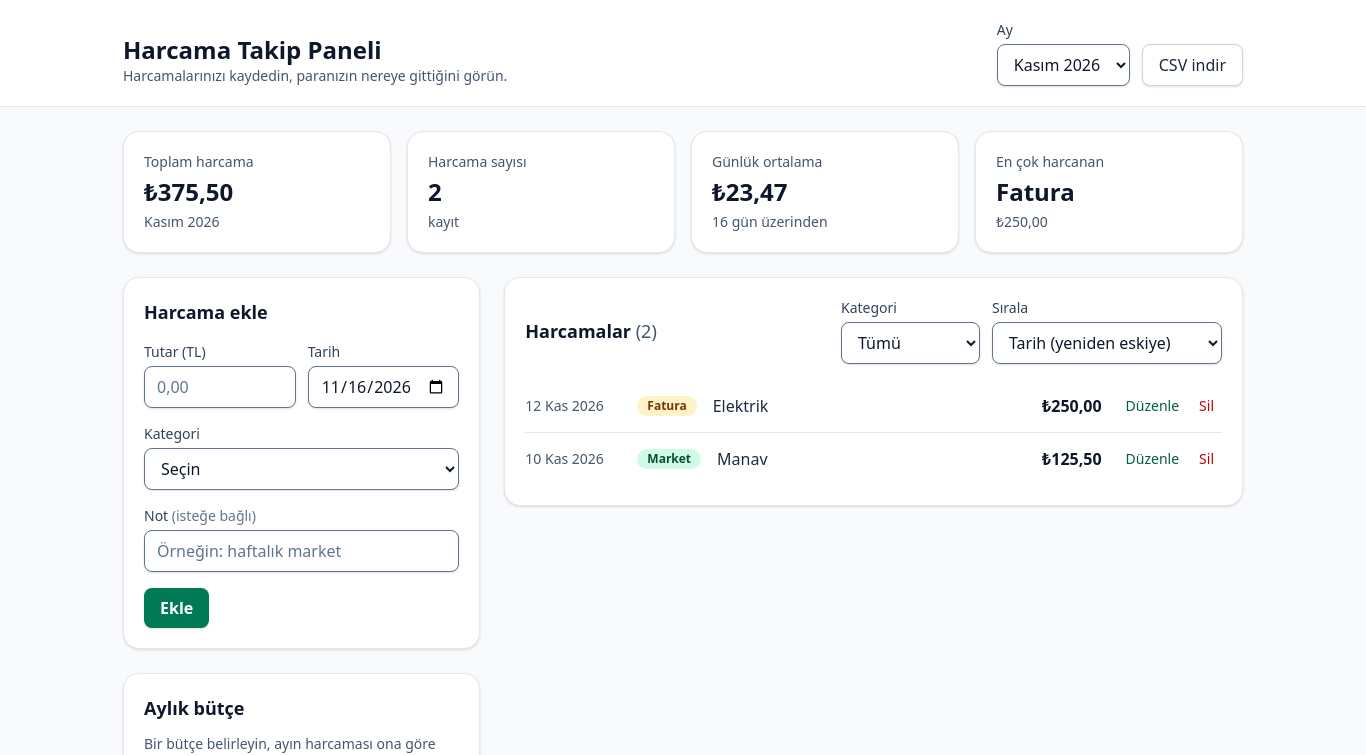
Scenario: the expense form › fills in the other expense when editing moves from one to another
Click the button named "Market harcaması: düzenle" at (1152, 459), box [1118,445,1187,473]
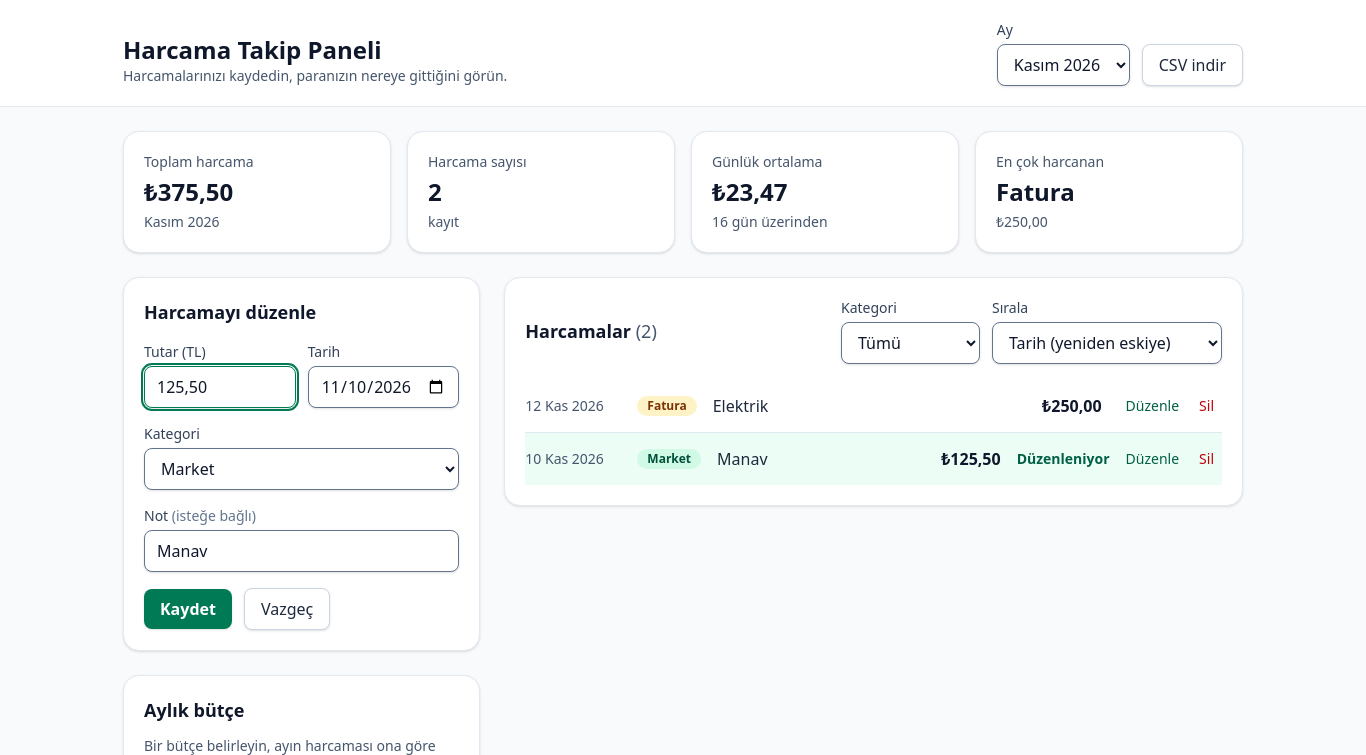
Now the field labelled "Tutar (TL)" holds "125,50", box [144,366,296,408]
Click the button "Düzenle" in the row of "12 Kas 2026" at (1152, 406), box [1118,392,1187,420]
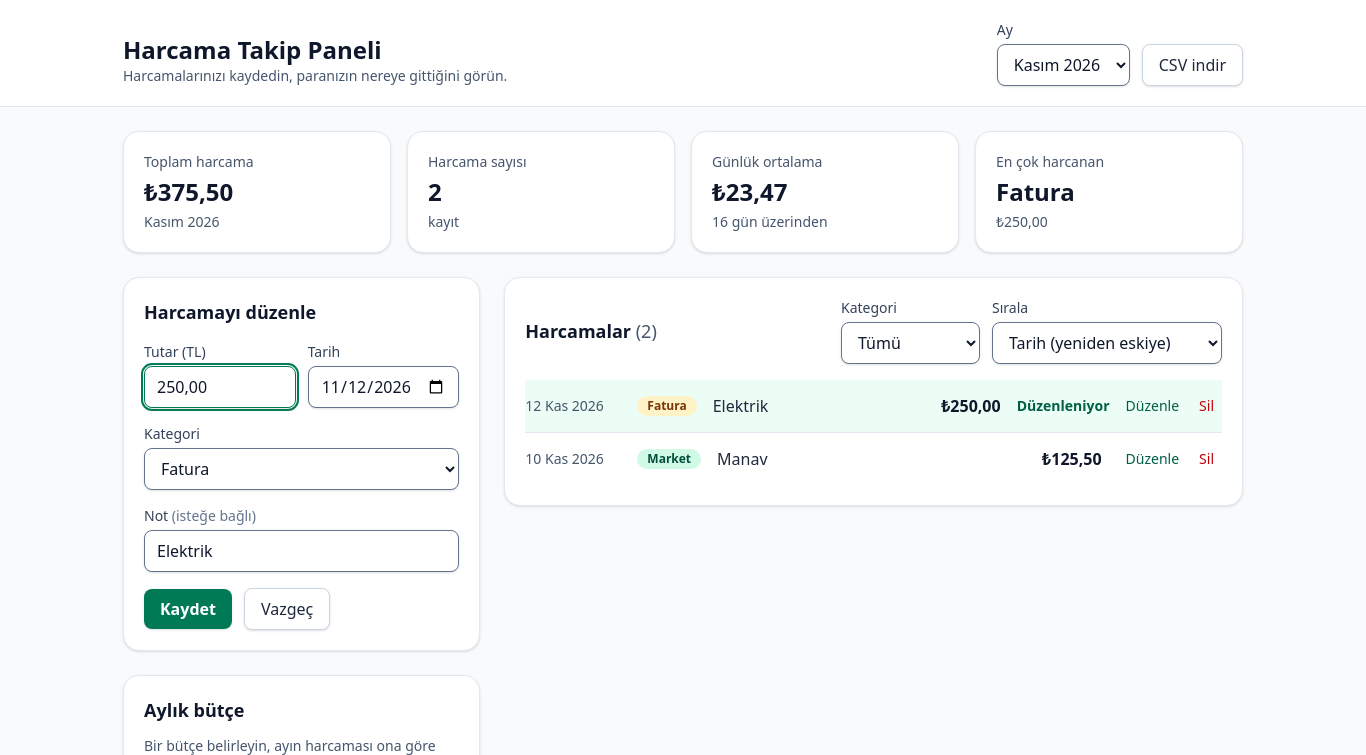
Now the field labelled "Tutar (TL)" holds "250,00", box [144,366,296,408]
Now the dropdown labelled "Kategori" below "Tutar (TL)" shows "Fatura", box [144,448,459,490]
Now the date field labelled "Tarih" holds "2026-11-12", box [308,366,459,408]
